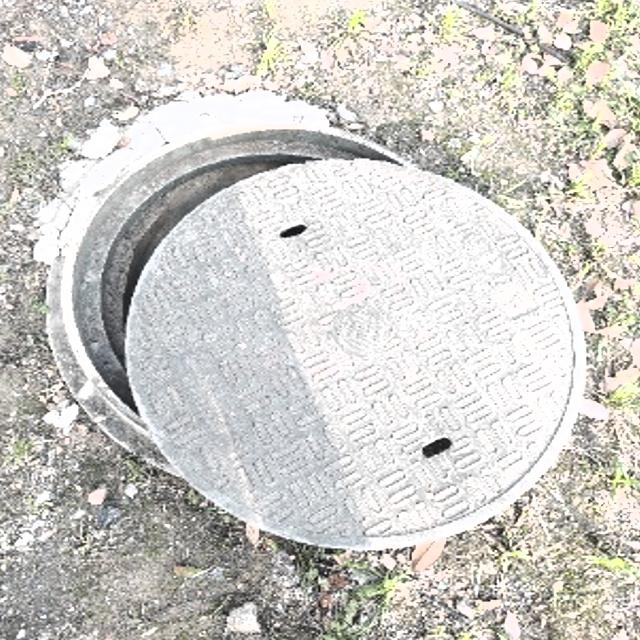uncovered: (55, 118, 584, 548)
